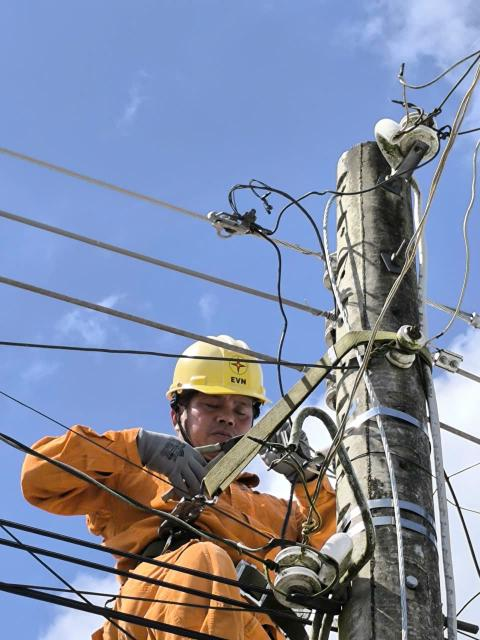gloves: (131, 427, 222, 500), (256, 407, 339, 484)
harness: (132, 509, 335, 621)
helmet: (154, 329, 287, 410)
